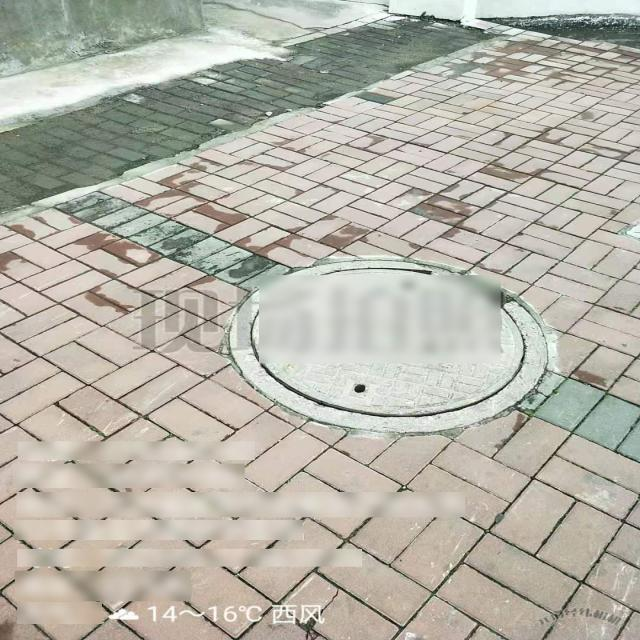Good: (222, 260, 552, 438)
